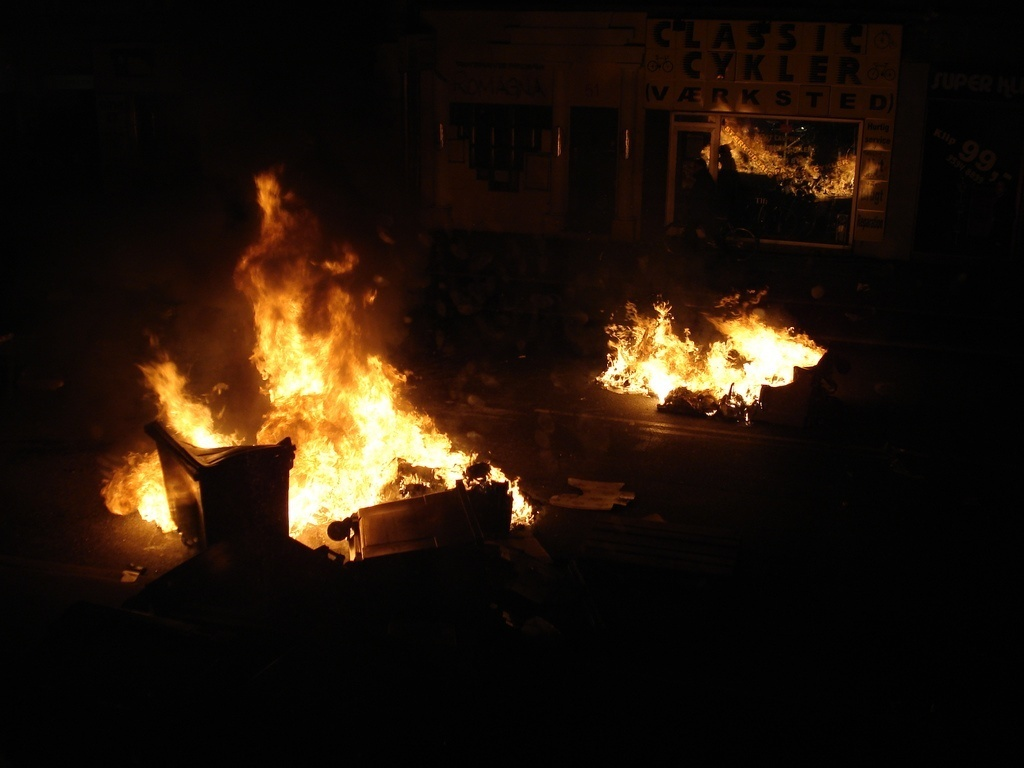fire: (111, 166, 539, 574), (592, 286, 829, 410), (699, 102, 885, 201)
